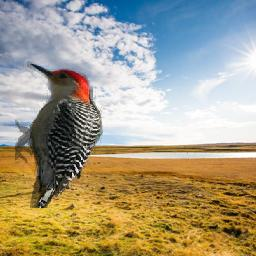Woodpecker: (15, 62, 103, 209)
